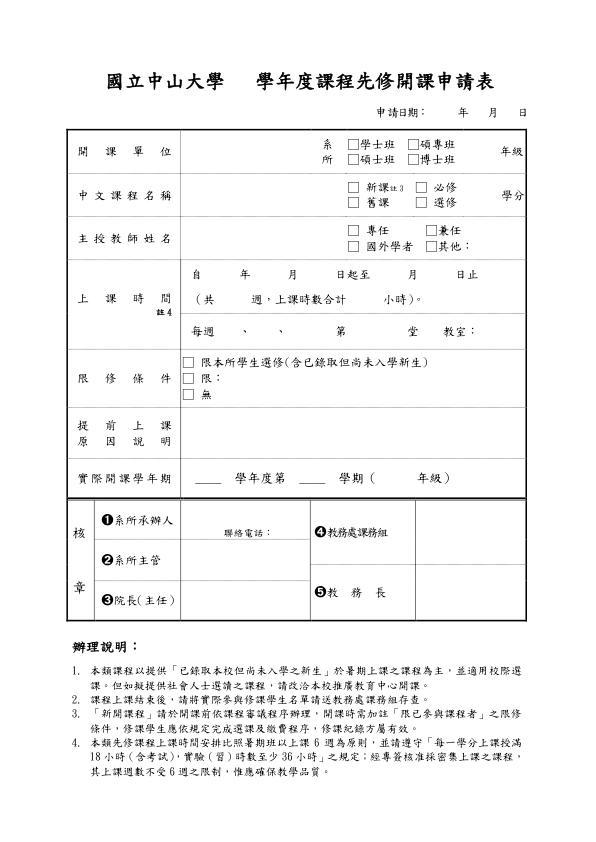table: (60, 125, 534, 627)
text: (68, 639, 532, 784), (104, 67, 499, 92), (374, 103, 528, 118)
